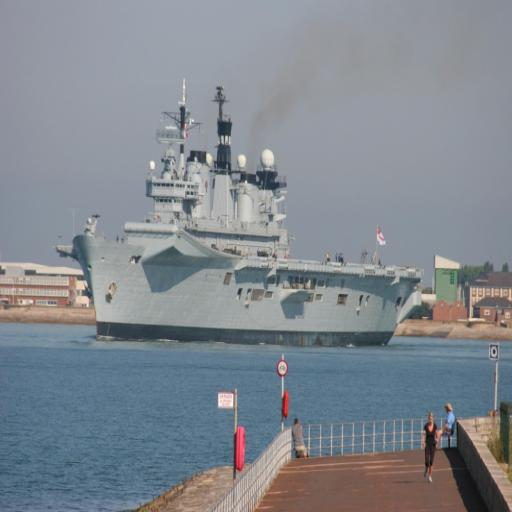Portanaves: (50, 72, 424, 353)
